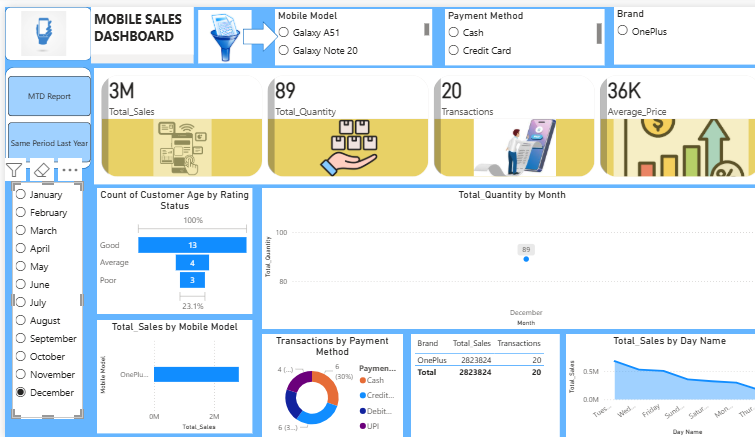

What the dashboard file says about the page in this screenshot:
{"tool":"powerbi","page":{"name":"Dashboard","canvas":[1280,720],"ordinal":0},"visuals":[{"type":"shape","box":[0,0,144,89.3],"z":0},{"type":"image","box":[0,7.2,129.6,74.9],"z":1000},{"type":"shape","box":[0,99.4,144,169.9],"z":2000},{"type":"listSlicer","fields":{"Values":["Custom_Calender.Date.Variation.Date Hierarchy.Month"]},"box":[11.5,290.9,118.1,394.6],"z":4000},{"type":"cardVisual","fields":{"Data":["Sales_Data.Total_Sales","Sales_Data.Total_Quantity","Sales_Data.Transactions","Sales_Data.Average_Price"]},"box":[144,96.5,1136.2,204.5],"z":5000},{"type":"listSlicer","fields":{"Values":["Sales_Data.Mobile Model"]},"box":[450.7,2.9,262.1,93.6],"z":6000},{"type":"listSlicer","fields":{"Values":["Sales_Data.Payment Method"]},"box":[733,2.9,266.4,93.6],"z":7000},{"type":"listSlicer","fields":{"Values":["Sales_Data.Brand"]},"box":[1015.2,0,246.2,96.5],"z":8000},{"type":"image","box":[305.3,4.3,122.4,89.3],"z":9000},{"type":"shape","box":[397.4,23,59,51.8],"z":10000},{"type":"image","box":[144,0,171.4,93.6],"z":11000},{"type":"textbox","box":[144,0,171.4,79.2],"z":12000},{"type":"lineChart","fields":{"Category":["Custom_Calender.Date.Variation.Date Hierarchy.Month"],"Y":["Sales_Data.Total_Quantity"]},"box":[427.7,301,833.8,234.7],"z":13000},{"type":"funnel","fields":{"Y":["CountNonNull(Sales_Data.Customer Age)"],"Category":["Sales_Data.Rating Status"]},"box":[154.1,301,259.2,210.2],"z":14000},{"type":"donutChart","fields":{"Y":["Sales_Data.Transactions"],"Category":["Sales_Data.Payment Method"]},"box":[427.7,545.8,234.7,174.2],"z":15000},{"type":"clusteredBarChart","fields":{"Y":["Sales_Data.Total_Sales"],"Category":["Sales_Data.Mobile Model"]},"box":[154.1,521.3,259.2,188.6],"z":16000},{"type":"stackedAreaChart","fields":{"Category":["Custom_Calender.Day Name"],"Y":["Sales_Data.Total_Sales"]},"box":[934.6,545.8,345.6,174.2],"z":17000},{"type":"tableEx","fields":{"Values":["Sales_Data.Brand","Sales_Data.Total_Sales","Sales_Data.Transactions"]},"box":[676.8,545.8,247.7,174.2],"z":18000},{"type":"pageNavigator","box":[5.8,115.2,138.2,144],"z":19000}]}

Visuals, with their boxes in screenshot pixels (x1, y1, x2, y2), scaled from the page's 1280x720 canvas onto the 755x437 screenshot:
shape: pyautogui.locateOnScreen(0, 0, 85, 54)
image: pyautogui.locateOnScreen(0, 4, 76, 50)
shape: pyautogui.locateOnScreen(0, 60, 85, 163)
listSlicer - Custom_Calender.Date.Variation.Date Hierarchy.Month: pyautogui.locateOnScreen(7, 177, 76, 416)
cardVisual - Sales_Data.Total_Sales x Sales_Data.Total_Quantity: pyautogui.locateOnScreen(85, 59, 754, 183)
listSlicer - Sales_Data.Mobile Model: pyautogui.locateOnScreen(266, 2, 420, 59)
listSlicer - Sales_Data.Payment Method: pyautogui.locateOnScreen(432, 2, 589, 59)
listSlicer - Sales_Data.Brand: pyautogui.locateOnScreen(599, 0, 744, 59)
image: pyautogui.locateOnScreen(180, 3, 252, 57)
shape: pyautogui.locateOnScreen(234, 14, 269, 45)
image: pyautogui.locateOnScreen(85, 0, 186, 57)
textbox: pyautogui.locateOnScreen(85, 0, 186, 48)
lineChart - Custom_Calender.Date.Variation.Date Hierarchy.Month x Sales_Data.Total_Quantity: pyautogui.locateOnScreen(252, 183, 744, 325)
funnel - CountNonNull(Sales_Data.Customer Age) x Sales_Data.Rating Status: pyautogui.locateOnScreen(91, 183, 244, 310)
donutChart - Sales_Data.Transactions x Sales_Data.Payment Method: pyautogui.locateOnScreen(252, 331, 391, 436)
clusteredBarChart - Sales_Data.Total_Sales x Sales_Data.Mobile Model: pyautogui.locateOnScreen(91, 316, 244, 431)
stackedAreaChart - Custom_Calender.Day Name x Sales_Data.Total_Sales: pyautogui.locateOnScreen(551, 331, 754, 436)
tableEx - Sales_Data.Brand x Sales_Data.Total_Sales: pyautogui.locateOnScreen(399, 331, 545, 436)
pageNavigator: pyautogui.locateOnScreen(3, 70, 85, 157)
